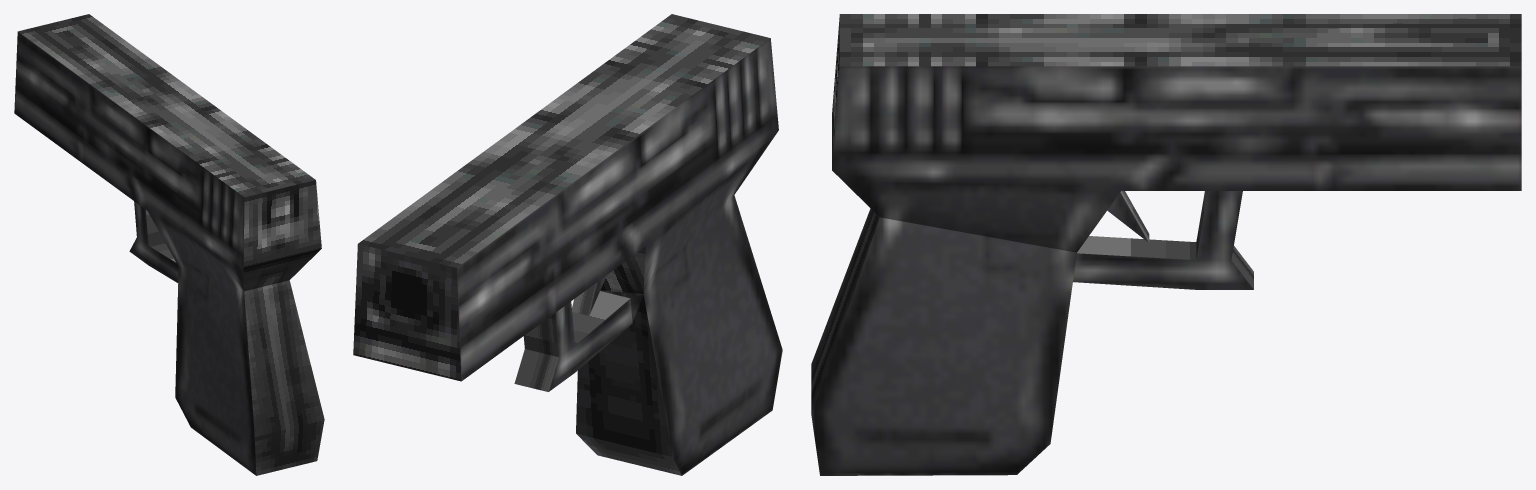
File: pistol-pickup-lod0.glb
3 renders of one model, left to right at view 1: azimuth 30°, elevation 25°; view 2: azimuth 150°, elevation 25°; view 3: azimuth 270°, elevation 25°, orthographic. The views are drawn at different scales.
Parts seen in each view (by area): view 1: wrld_glock; view 2: wrld_glock; view 3: wrld_glock.
Part boxes in pixels (x1,y1,x2,y2): wrld_glock: (14, 14, 324, 475); wrld_glock: (353, 14, 782, 475); wrld_glock: (811, 14, 1521, 475).
Size of the model in its own units: 0.198 by 0.6655 by 1.04.
4 materials, 4 textured.
